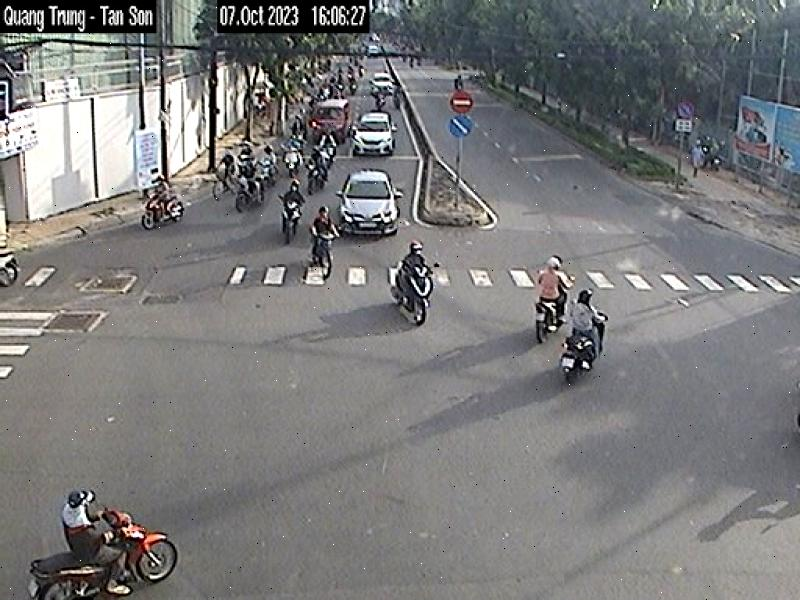car: (336, 171, 401, 238), (352, 112, 398, 154)
motorcycle: (26, 510, 179, 600), (390, 249, 434, 327), (561, 333, 598, 377), (303, 231, 340, 271), (141, 194, 184, 228), (534, 297, 562, 343), (276, 198, 302, 236)
